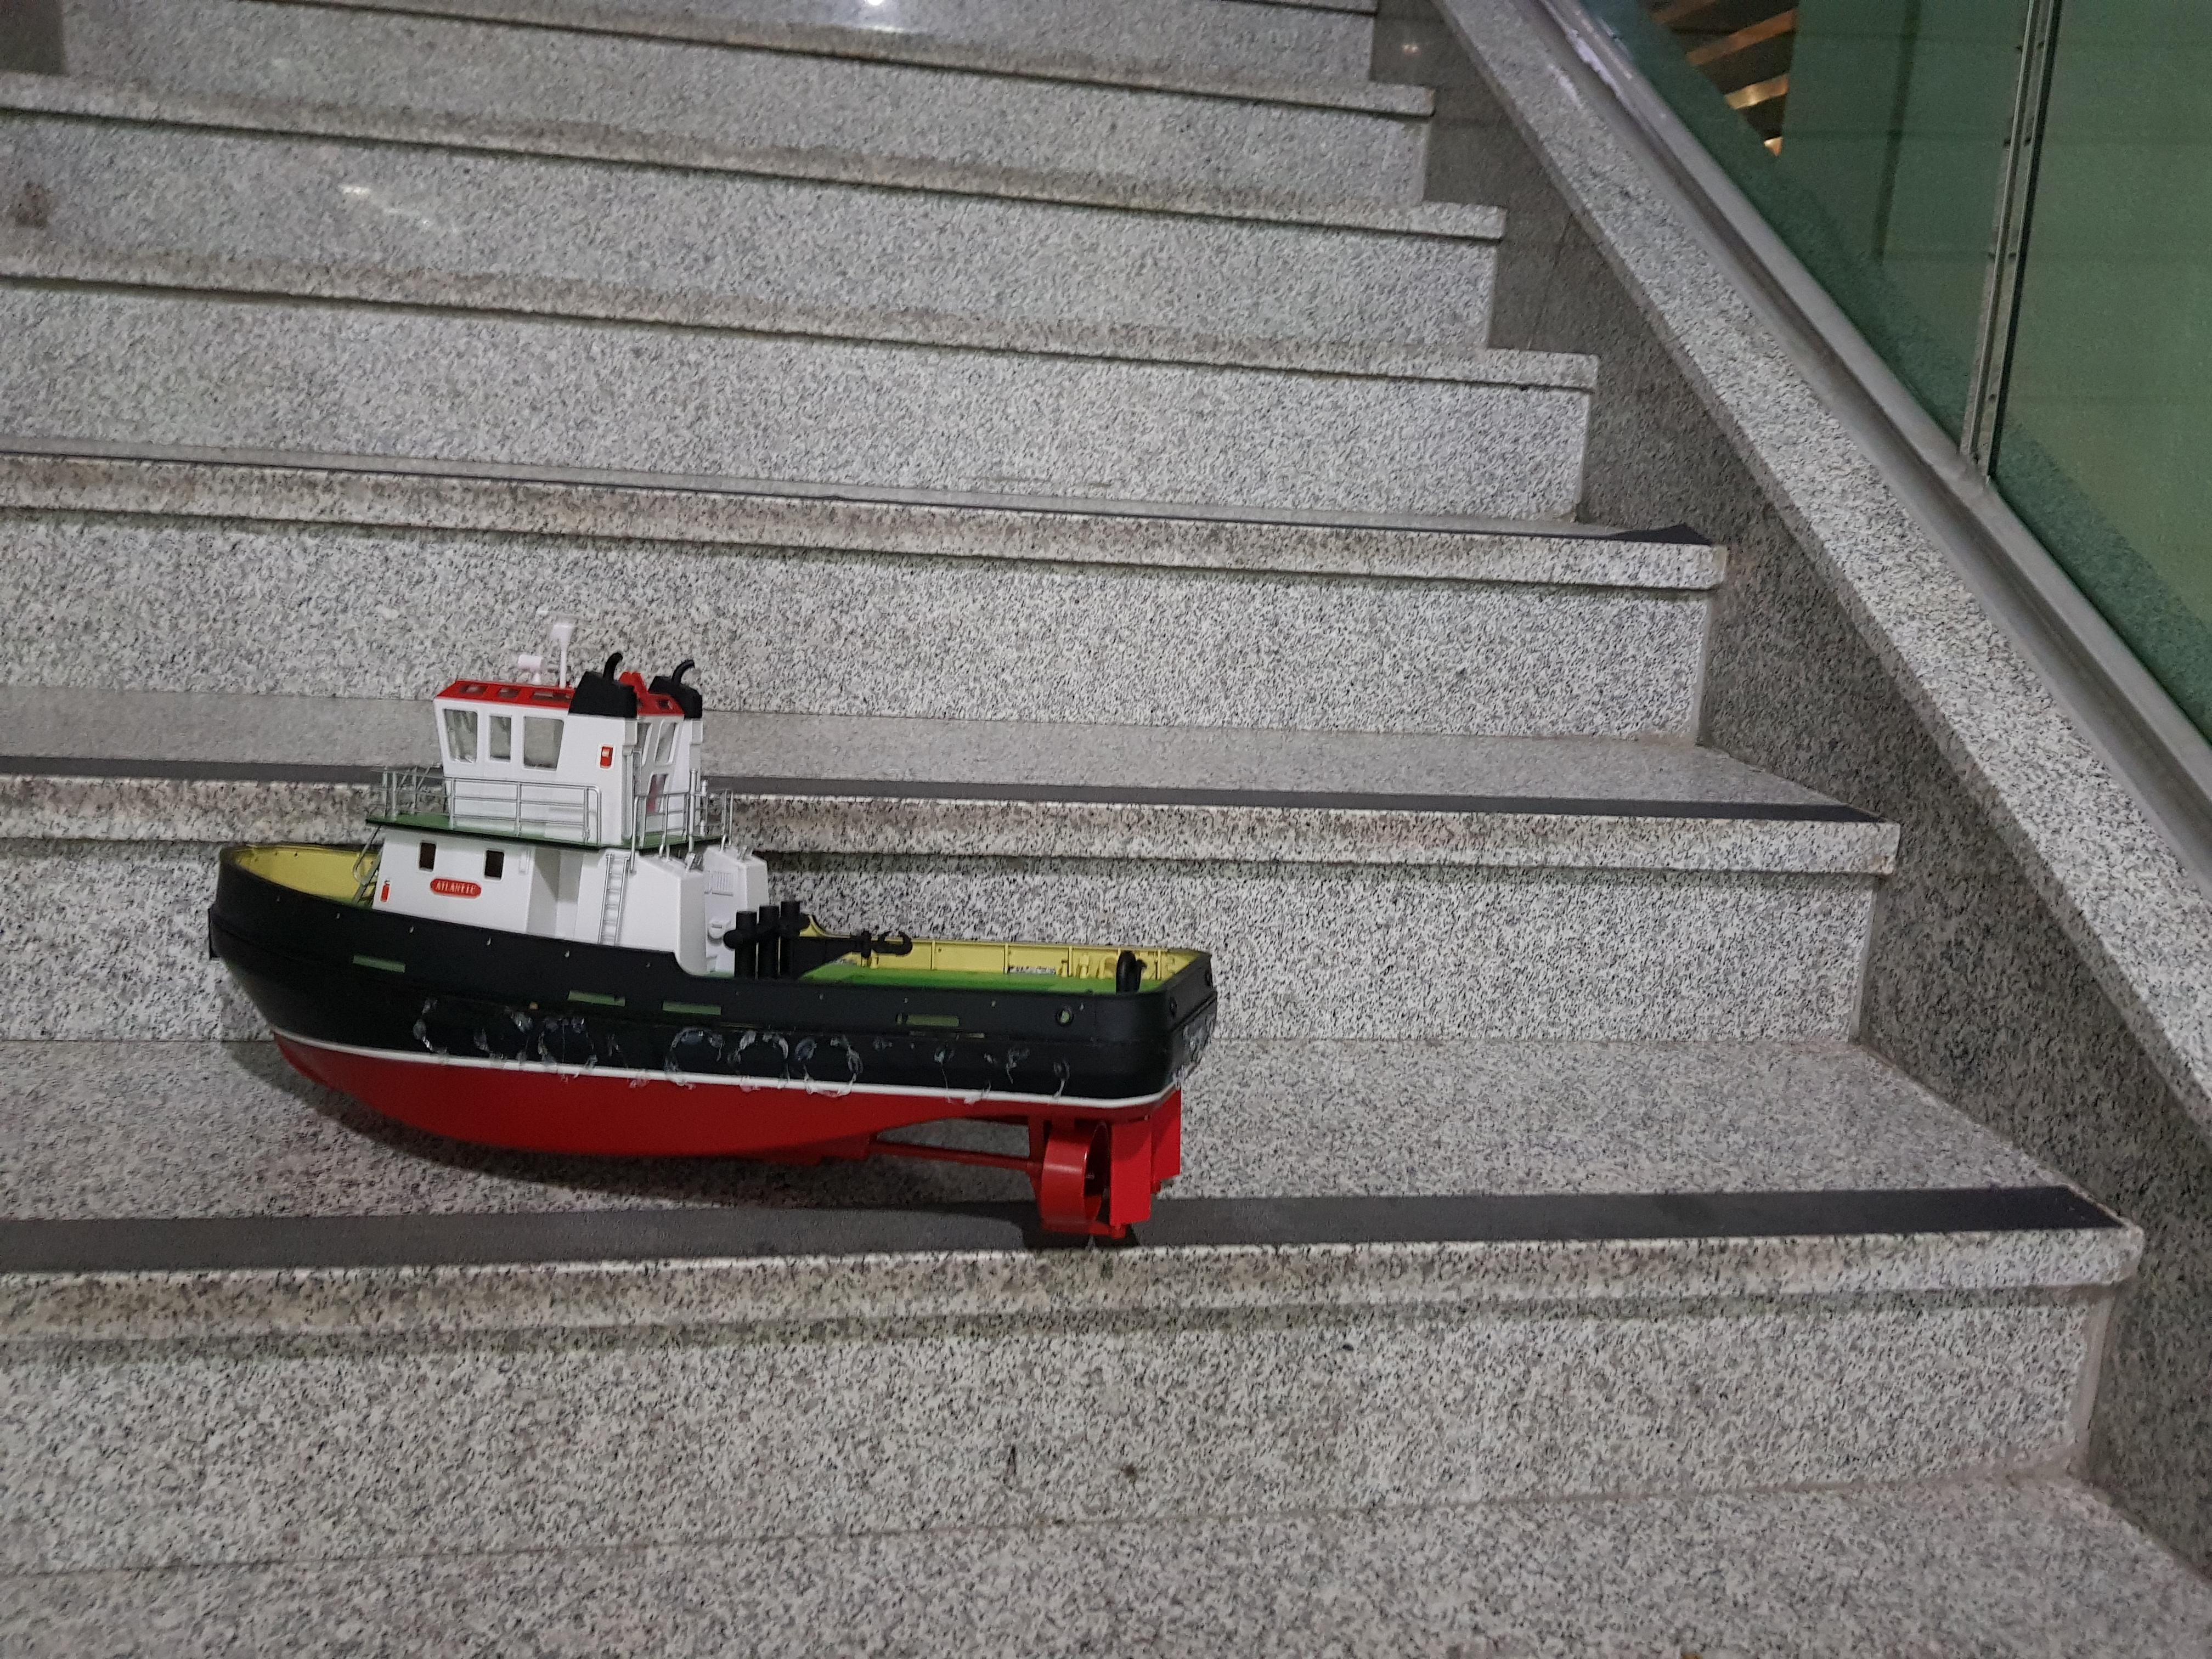Boat: (207, 620, 1219, 1239)
